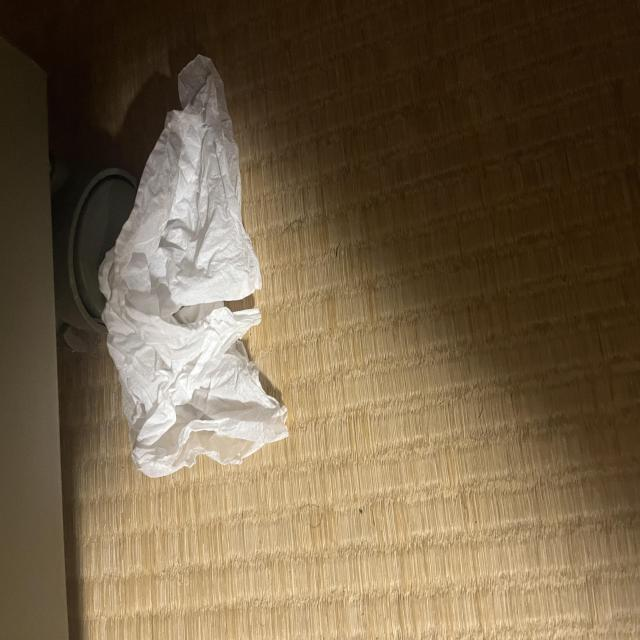衛生紙: (130, 40, 386, 360)
